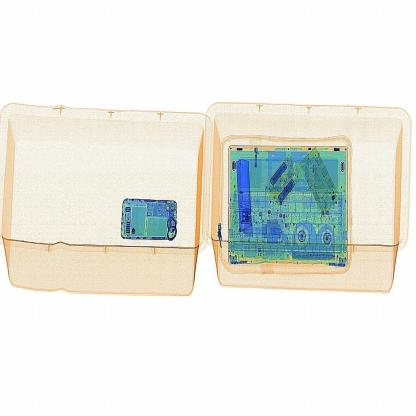pliers: (231, 152, 261, 238)
